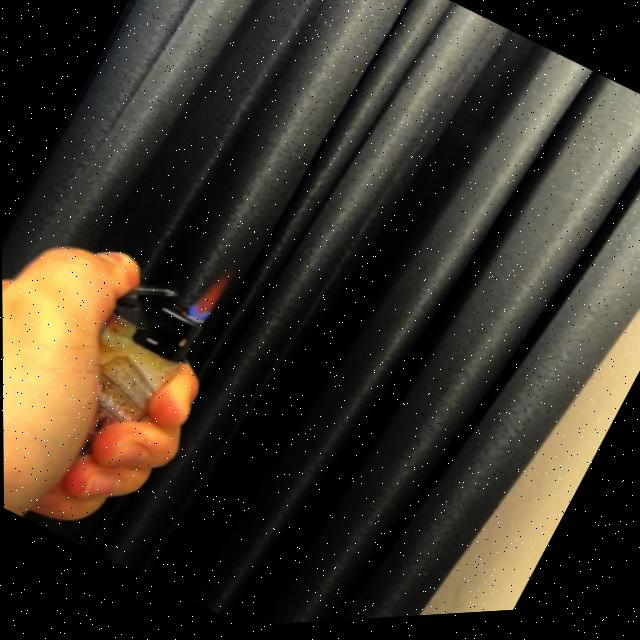Fire: (183, 254, 238, 328)
